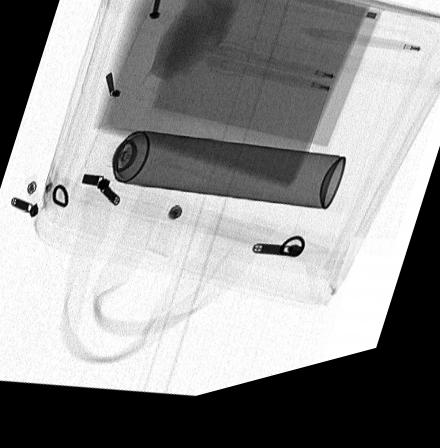Sprayer: (83, 132, 346, 226)
